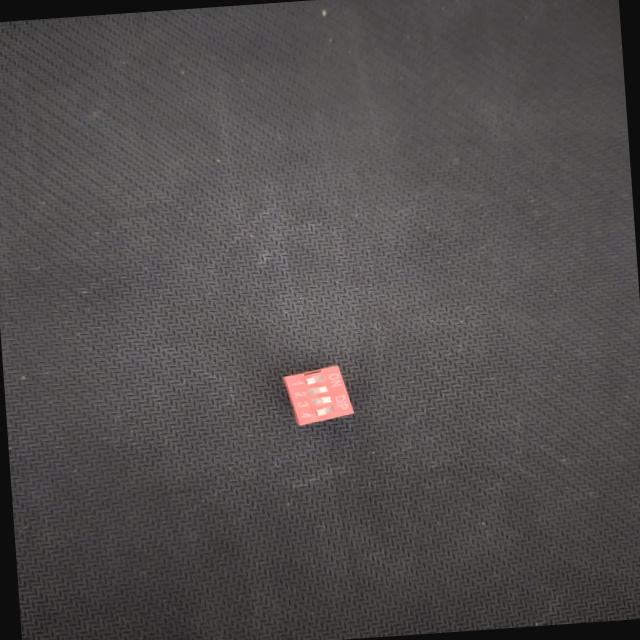switch: (272, 355, 371, 438)
